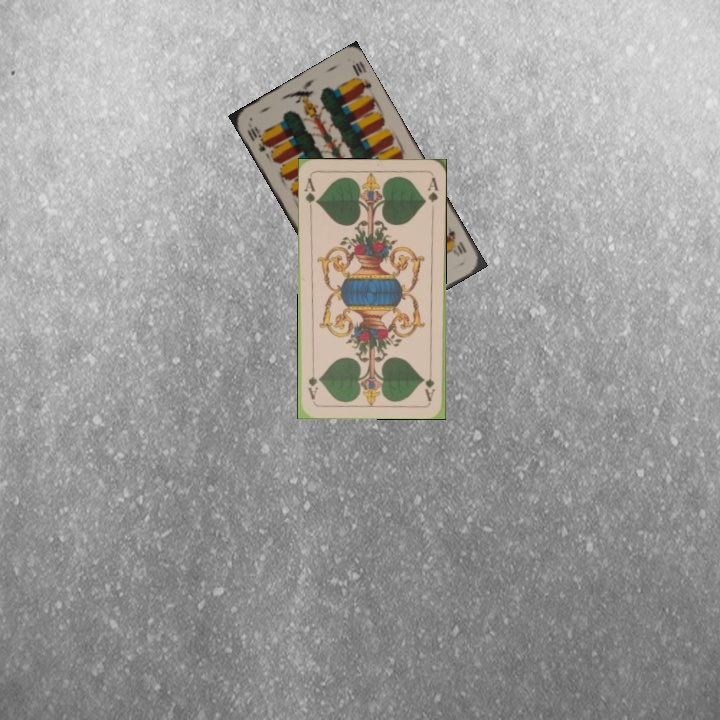E10: (243, 122, 273, 155), (442, 224, 469, 257)
GA: (301, 174, 321, 214), (421, 362, 438, 403)
